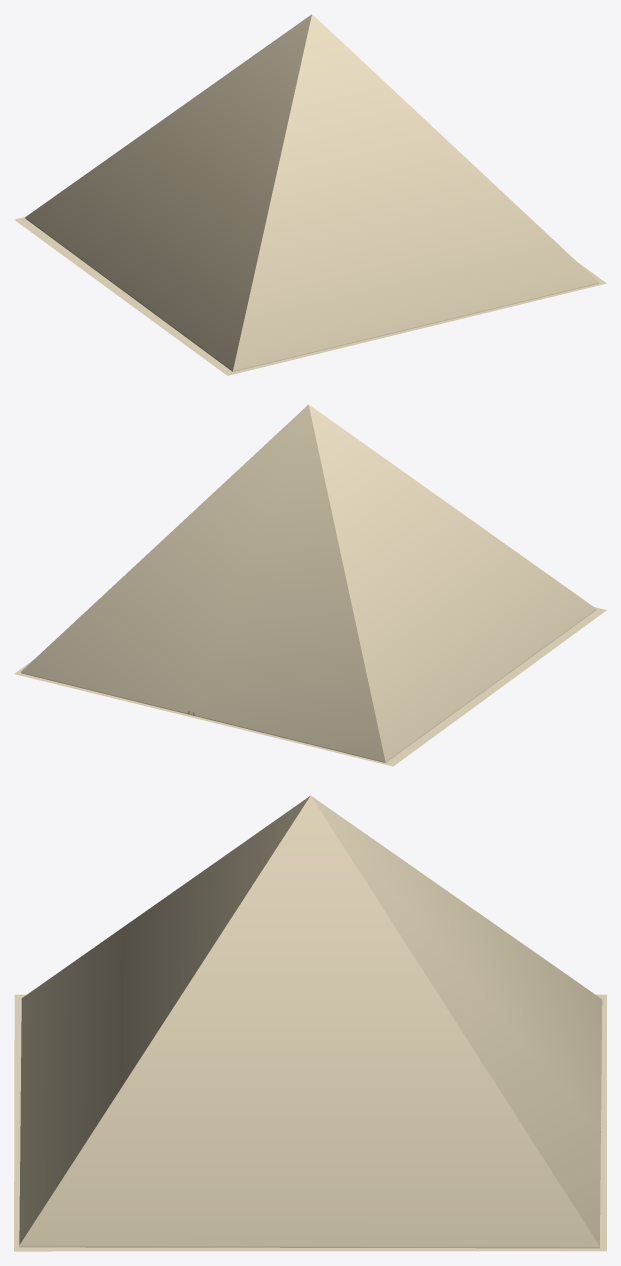
The model's file is giza.glb.
3 renders of one model, top to bottom at view 1: azimuth 30°, elevation 25°; view 2: azimuth 150°, elevation 25°; view 3: azimuth 270°, elevation 25°, orthographic. The views are drawn at different scales.
Visible parts, largest first — view 1: pyramid; view 2: pyramid; view 3: pyramid.
Boxes of the visible parts, <box> form: pyramid: <box>14,14,606,375</box>; pyramid: <box>14,404,606,766</box>; pyramid: <box>14,795,606,1251</box>.
Size of the model in its own units: 233 by 139 by 227.
